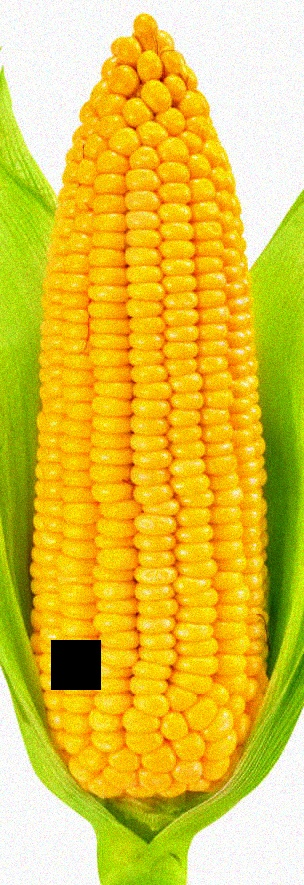corn: (11, 2, 266, 829)
